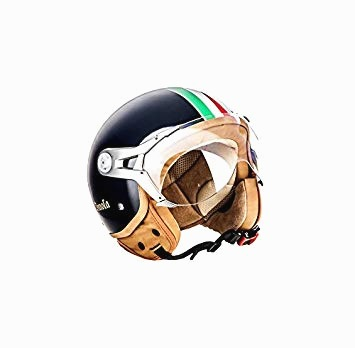with_helmet: (84, 80, 266, 245)
